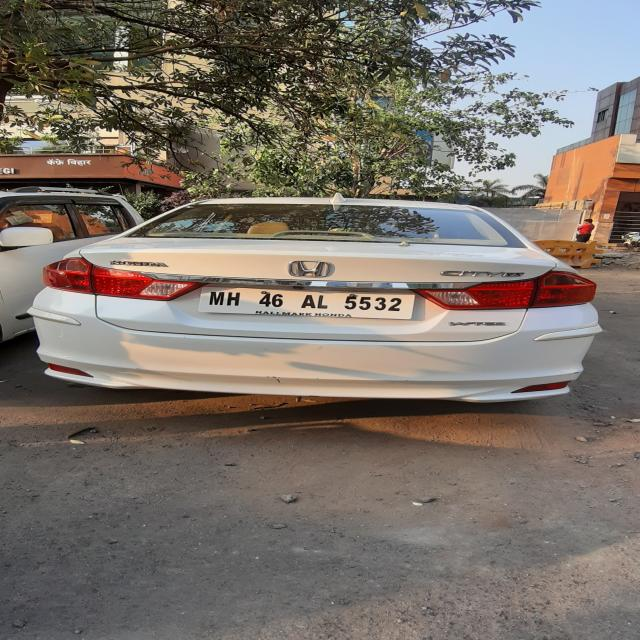Number-Plate: (200, 286, 413, 316)
